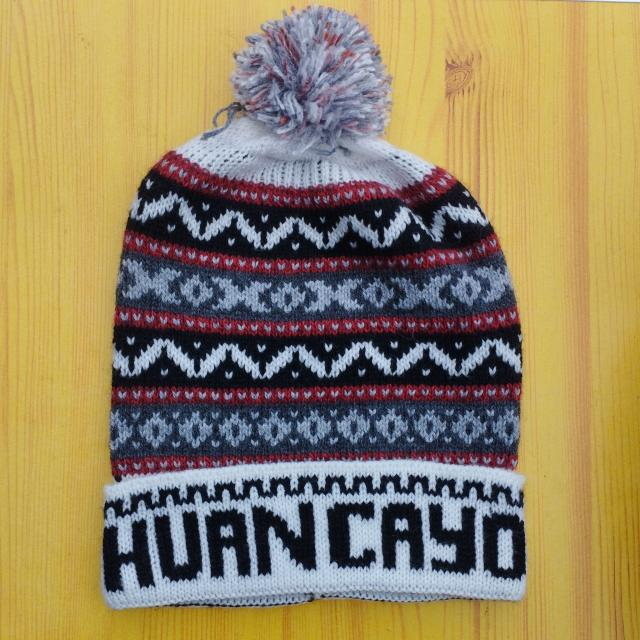Gorro: (101, 4, 528, 609)
